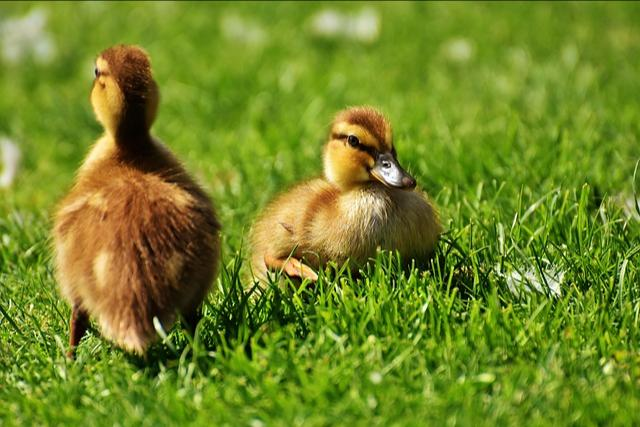Non_Gorille: (28, 10, 496, 388)
